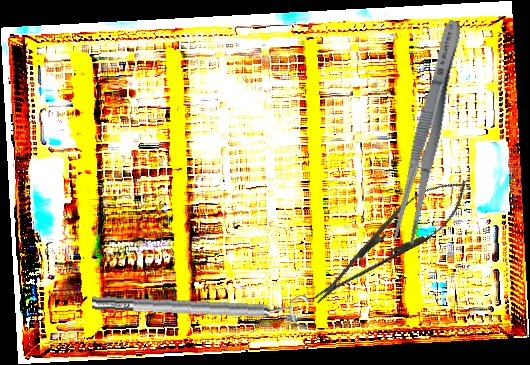Dressing Forceps: (388, 17, 470, 245)
Fixation Ring: (91, 283, 310, 331)
Needle Holder: (301, 164, 480, 318)
